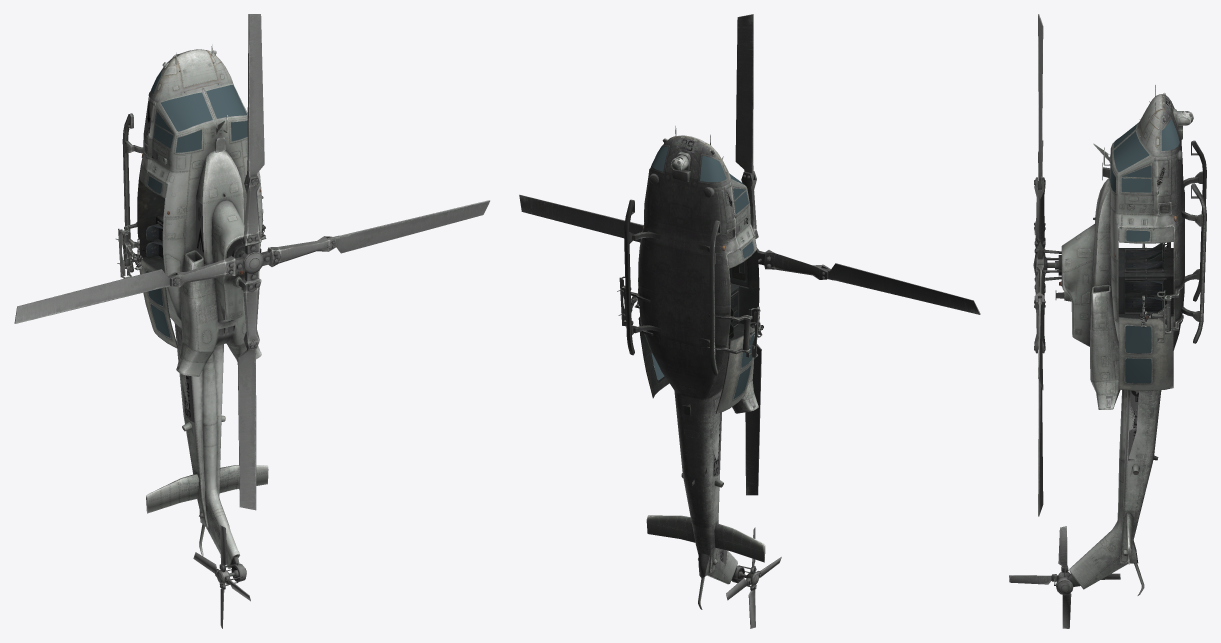
File: uh1y-venom-usmc.glb
The picture shows the model from 3 angles, left to right: view 1: azimuth 30°, elevation 25°; view 2: azimuth 150°, elevation 25°; view 3: azimuth 270°, elevation 25°; orthographic projection. The views are drawn at different scales.
Parts seen in each view (by area): view 1: Venom_Tex_0018_1_dds_0, Venom_glass_shades_0, Venom_Tex_0017_3_dds_0, Venom_Material__3_0; view 2: Venom_Tex_0018_1_dds_0, Venom_Tex_0017_3_dds_0, Venom_glass_shades_0, Venom_Material__3_0; view 3: Venom_Tex_0018_1_dds_0, Venom_glass_shades_0, Venom_Tex_0017_3_dds_0, Venom_Material__3_0.
Boxes of the visible parts, x1=… form: Venom_Tex_0018_1_dds_0: x1=14, y1=14, x2=490, y2=628; Venom_glass_shades_0: x1=146, y1=69, x2=247, y2=337; Venom_Tex_0017_3_dds_0: x1=137, y1=113, x2=261, y2=348; Venom_Material__3_0: x1=145, y1=100, x2=224, y2=538; Venom_Tex_0018_1_dds_0: x1=519, y1=14, x2=980, y2=628; Venom_Tex_0017_3_dds_0: x1=638, y1=236, x2=759, y2=413; Venom_glass_shades_0: x1=651, y1=146, x2=754, y2=398; Venom_Material__3_0: x1=666, y1=138, x2=755, y2=567; Venom_Tex_0018_1_dds_0: x1=1009, y1=14, x2=1206, y2=628; Venom_glass_shades_0: x1=1110, y1=119, x2=1179, y2=383; Venom_Tex_0017_3_dds_0: x1=1118, y1=226, x2=1173, y2=383; Venom_Material__3_0: x1=1097, y1=96, x2=1172, y2=571.
Bounding box in the file's own units: 60.17 × 74.98 × 21.65.
Materials: 4 (4 with a texture image).
